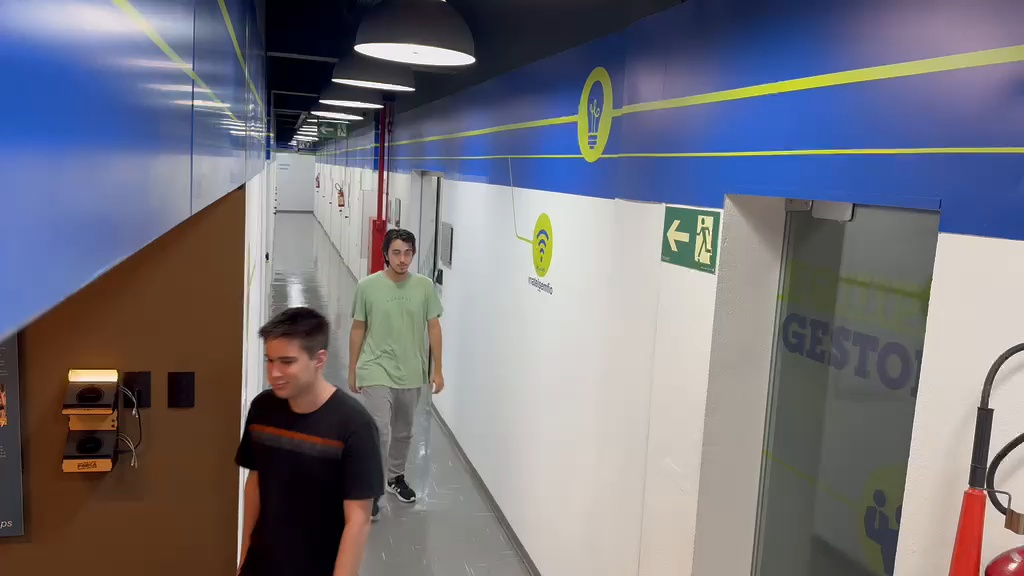person: (235, 307, 385, 573), (348, 225, 445, 506)
